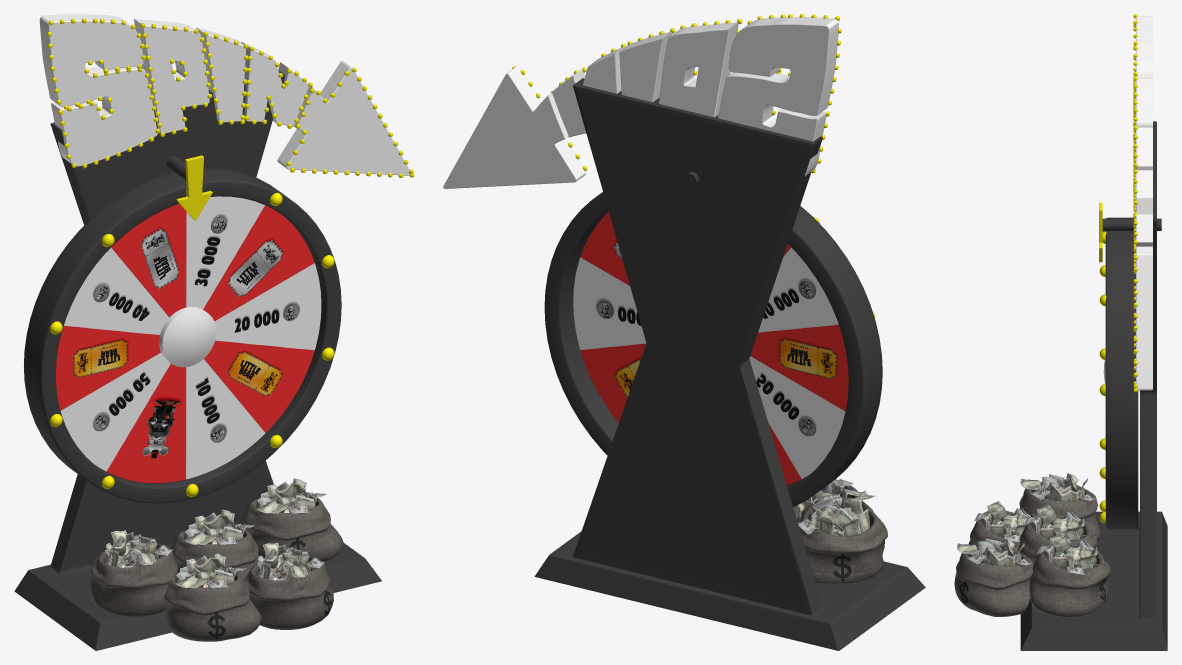
File: wheel2.glb
The picture shows the model from 3 angles, left to right: view 1: azimuth 30°, elevation 25°; view 2: azimuth 150°, elevation 25°; view 3: azimuth 270°, elevation 25°; orthographic projection. The views are drawn at different scales.
Visible parts, largest first — view 1: Disc, Stoika, Sphere_4, Oil_Tank_1; view 2: Stoika, Disc, Sphere_4; view 3: Stoika, Sphere_4, Disc.
Boxes of the visible parts, x1,y1,x2,y2 form: Disc: [24, 168, 341, 503]; Stoika: [14, 14, 414, 650]; Sphere_4: [90, 478, 343, 641]; Oil_Tank_1: [159, 306, 216, 367]; Stoika: [443, 14, 925, 650]; Disc: [544, 192, 882, 506]; Sphere_4: [793, 479, 887, 583]; Stoika: [1020, 14, 1167, 650]; Sphere_4: [954, 473, 1110, 617]; Disc: [1099, 217, 1138, 529].
Size of the model in its own units: 2.59 by 3.68 by 1.37.
Materials: 6 (2 with a texture image).
